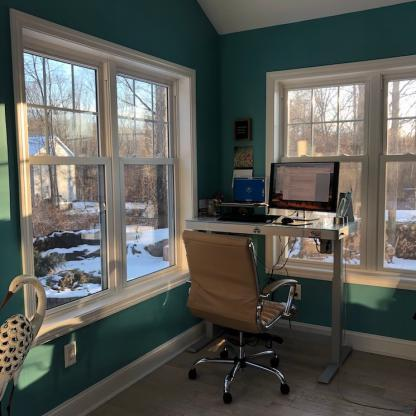chair: (179, 230, 300, 407)
light: (298, 137, 310, 156)
table: (187, 207, 366, 388)
